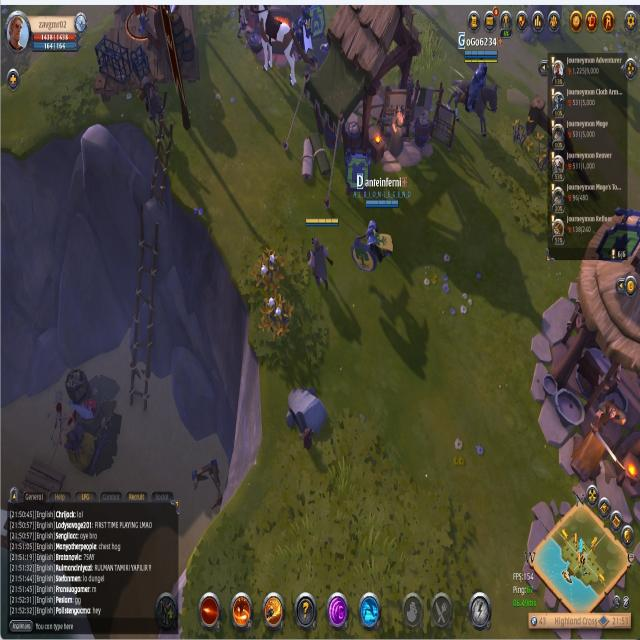stone: (284, 384, 332, 448)
